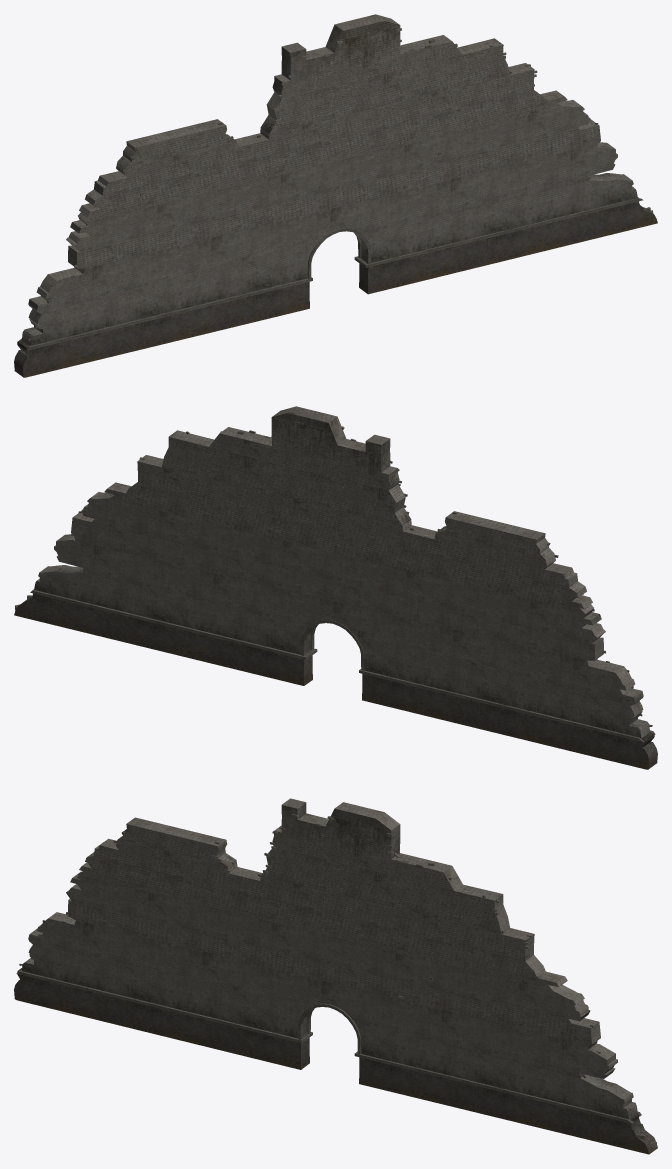
The model's file is b_zx_poqiang01_01.FBX.
The picture shows the model from 3 angles, top to bottom: view 1: azimuth 30°, elevation 25°; view 2: azimuth 150°, elevation 25°; view 3: azimuth 330°, elevation 25°; orthographic projection.
Visible parts, largest first — view 1: b_zx_poqiang01_01; view 2: b_zx_poqiang01_01; view 3: b_zx_poqiang01_01.
Part boxes in pixels (left/top/right/bottom): b_zx_poqiang01_01: left=14, top=14, right=657, bottom=377; b_zx_poqiang01_01: left=14, top=406, right=657, bottom=769; b_zx_poqiang01_01: left=14, top=798, right=657, bottom=1154.
Size of the model in its own units: 78.88 by 31.92 by 2.43.
